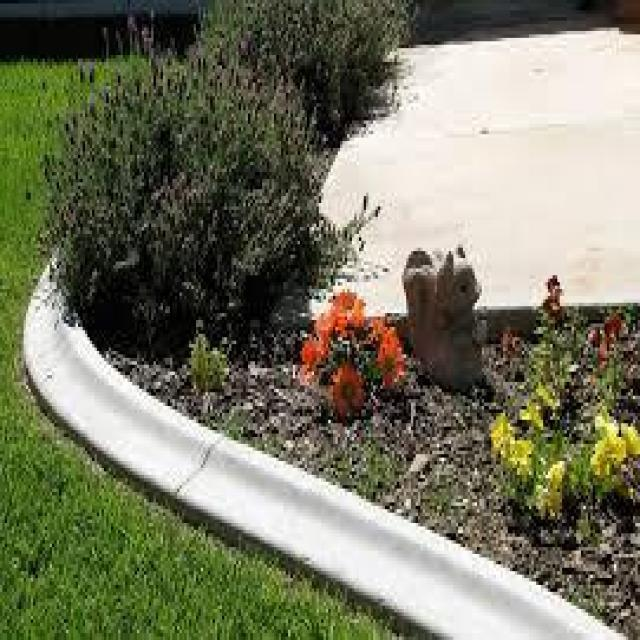curb: (24, 308, 623, 640)
